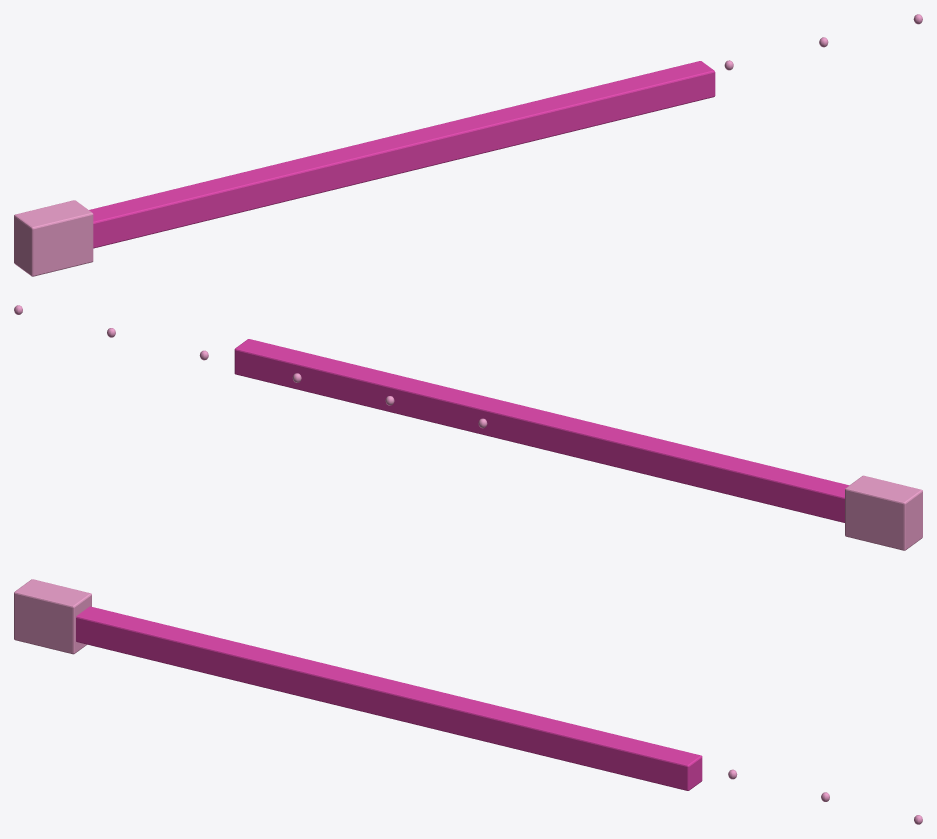
Rendered from VM-ACC-007.glb.
3 renders of one model, top to bottom at view 1: azimuth 30°, elevation 25°; view 2: azimuth 150°, elevation 25°; view 3: azimuth 330°, elevation 25°, orthographic.
Parts seen in each view (by area): view 1: Cinturón Cuero Fucsia Neón; view 2: Cinturón Cuero Fucsia Neón; view 3: Cinturón Cuero Fucsia Neón.
Boxes of the visible parts, x1,y1,x2,y2 form: Cinturón Cuero Fucsia Neón: (14, 14, 922, 276); Cinturón Cuero Fucsia Neón: (14, 305, 922, 550); Cinturón Cuero Fucsia Neón: (14, 579, 922, 824).
Bounding box in the file's own units: 1.34 × 0.0696 × 0.0515.
